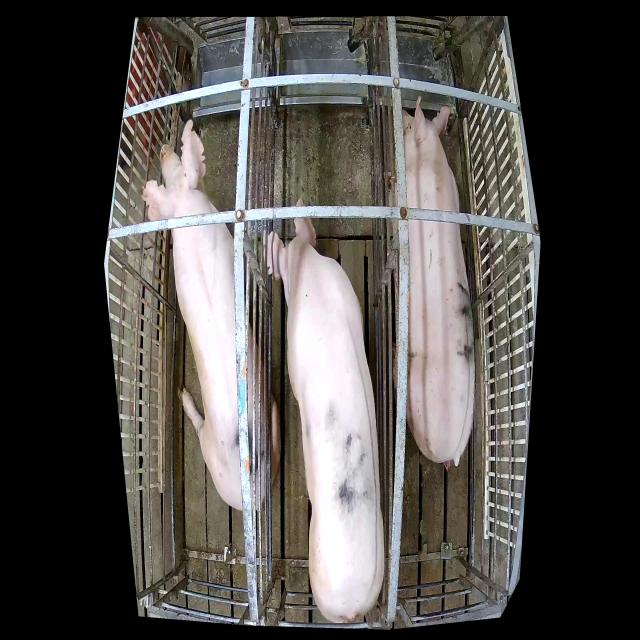pig: (138, 119, 281, 510), (263, 198, 384, 622), (402, 97, 475, 468)
